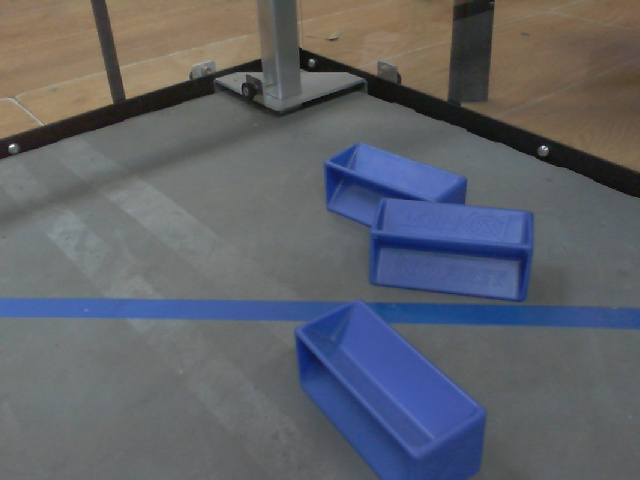BlueSample: (288, 296, 488, 480), (364, 195, 541, 300), (321, 137, 469, 236)
